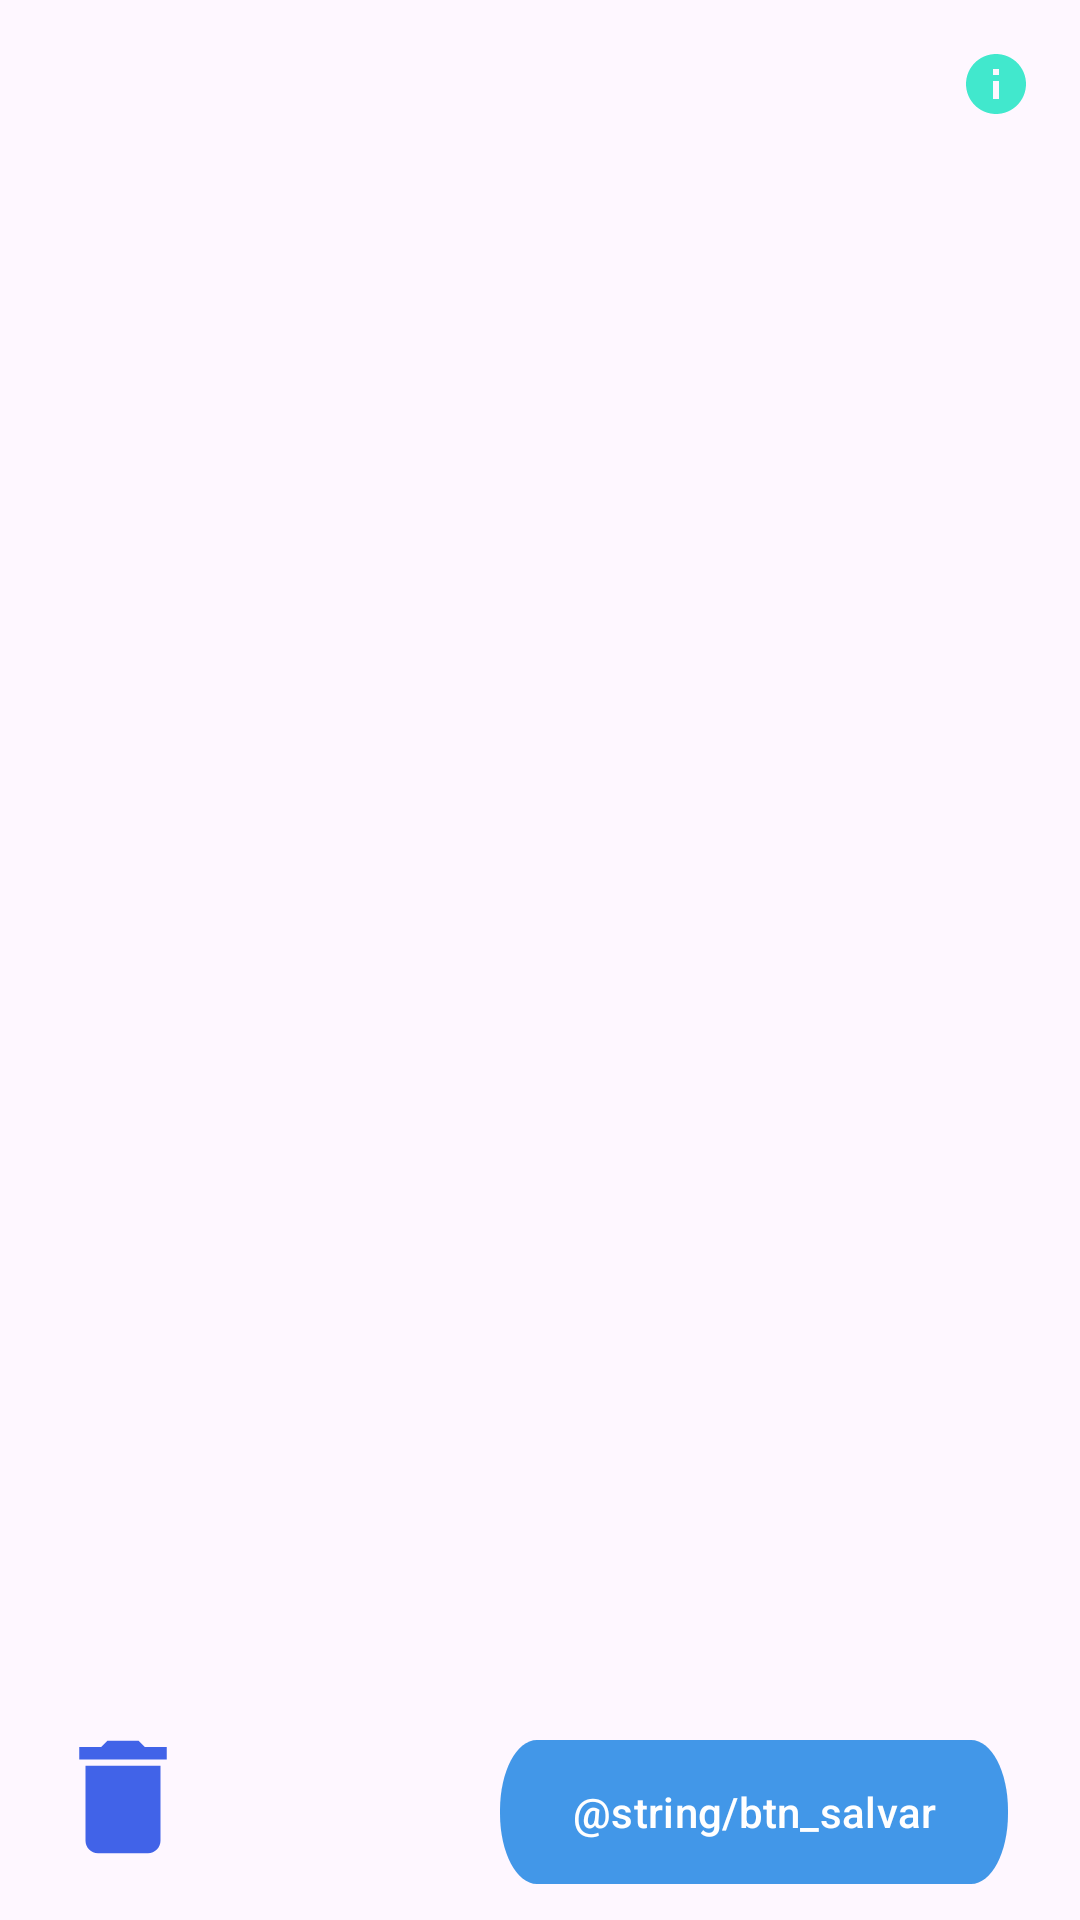

Point at icon controls on the screen. Image size 1080*1920, points as (x,y).
delete: (123,1797)
info: (996,84)
